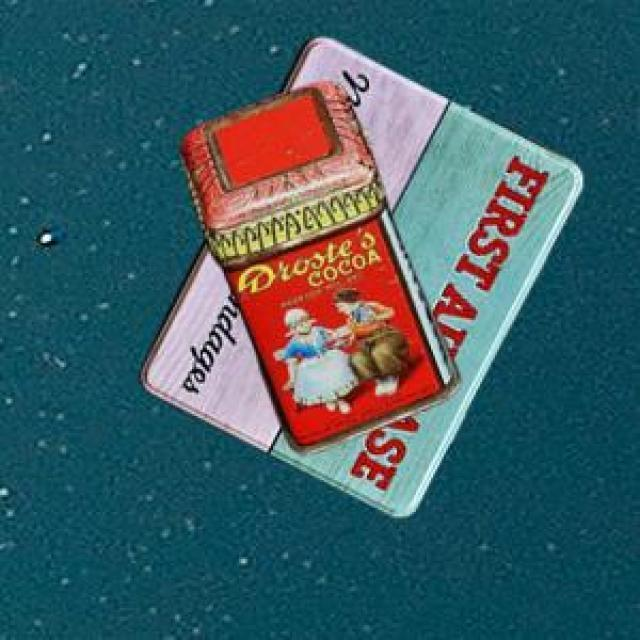Can: (138, 35, 579, 513), (178, 80, 458, 451)
